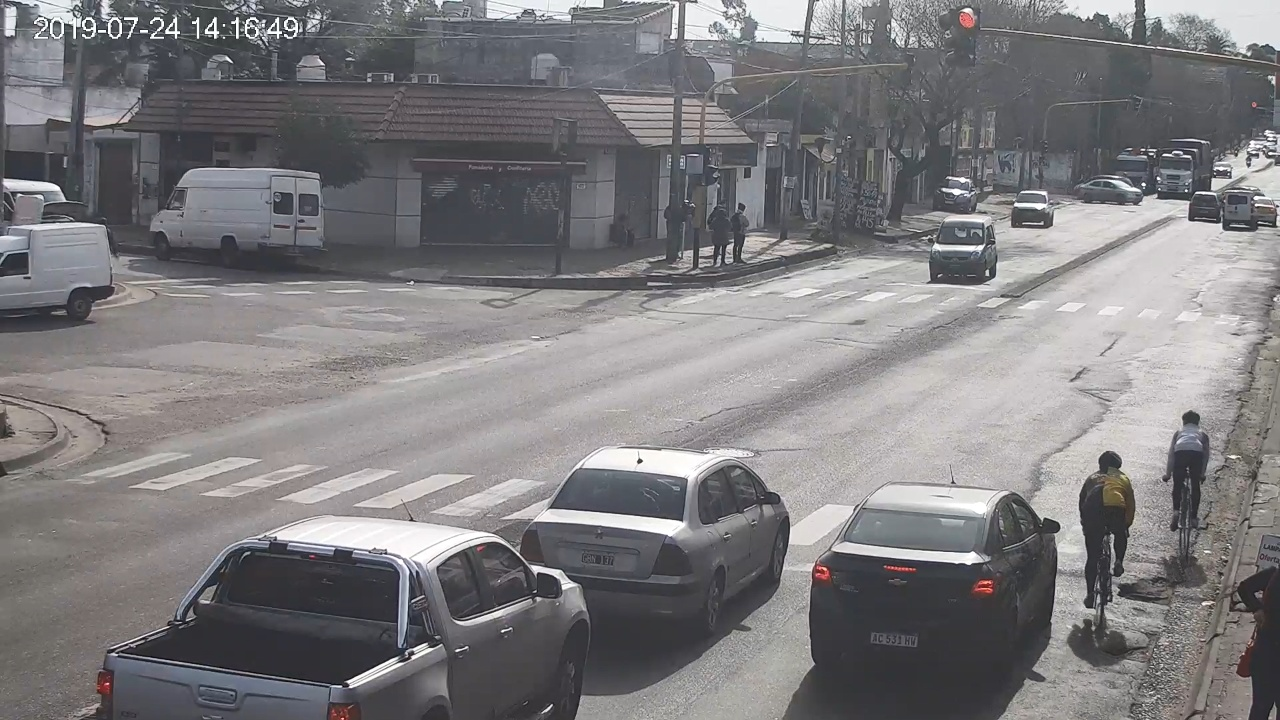bicycle: (1079, 452, 1135, 626), (1163, 410, 1210, 558)
car: (315, 515, 591, 720), (808, 480, 1061, 667)
traffic light: (958, 5, 978, 67)
